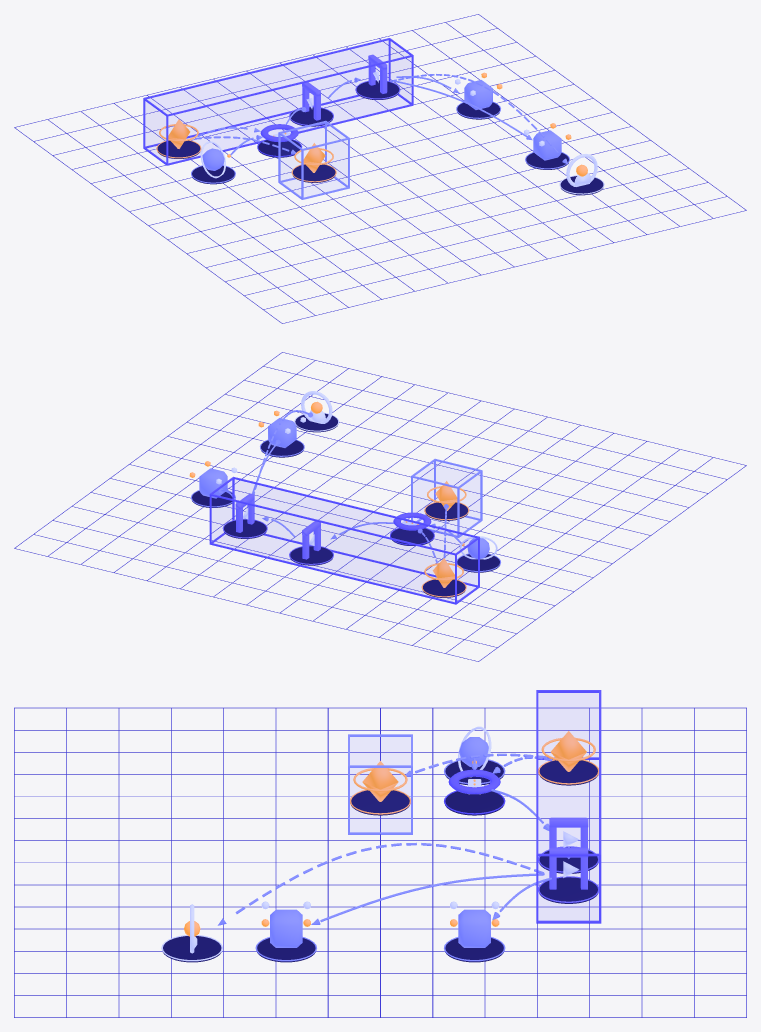
Rendered from haproxy.glb.
3 views of the same model, one above another, from view 1: azimuth 30°, elevation 25°; view 2: azimuth 150°, elevation 25°; view 3: azimuth 270°, elevation 25° (orthographic). The views are drawn at different scales.
Parts seen in each view (by area): view 1: floor, group_Active_node, group_Standby_node, mesh_srv_b_core, mesh_srv_a_core, mesh_ka_master_pad, mesh_ka_backup_pad, mesh_hap_be_pad, mesh_clients_pad, mesh_vip_pad; view 2: floor, group_Active_node, group_Standby_node, mesh_srv_b_core, mesh_srv_a_core, mesh_hap_fe_pad, mesh_hap_be_pad, mesh_ka_master_pad, mesh_ka_backup_pad, mesh_vip_pad, mesh_clients_pad; view 3: floor, group_Active_node, mesh_srv_a_core, mesh_srv_b_core, mesh_stats_pad, mesh_vip_pad, mesh_hap_be_pad, mesh_ka_backup_pad, mesh_ka_master_pad, group_Standby_node, mesh_srv_a_pad, mesh_srv_b_pad (+7 smaller).
Part boxes in pixels (x1=…): floor: x1=14, y1=14, x2=746, y2=323; group_Active_node: x1=143, y1=38, x2=413, y2=165; group_Standby_node: x1=278, y1=120, x2=349, y2=199; mesh_srv_b_core: x1=533, y1=130, x2=561, y2=160; mesh_srv_a_core: x1=464, y1=80, x2=492, y2=109; mesh_ka_master_pad: x1=157, y1=140, x2=200, y2=158; mesh_ka_backup_pad: x1=293, y1=164, x2=335, y2=182; mesh_hap_be_pad: x1=356, y1=80, x2=399, y2=99; mesh_clients_pad: x1=192, y1=166, x2=234, y2=184; mesh_vip_pad: x1=258, y1=140, x2=300, y2=157; floor: x1=14, y1=352, x2=746, y2=661; group_Active_node: x1=209, y1=476, x2=479, y2=604; group_Standby_node: x1=411, y1=458, x2=482, y2=537; mesh_srv_b_core: x1=268, y1=418, x2=296, y2=447; mesh_srv_a_core: x1=199, y1=468, x2=227, y2=498; mesh_hap_fe_pad: x1=290, y1=546, x2=332, y2=565; mesh_hap_be_pad: x1=224, y1=519, x2=266, y2=538; mesh_ka_master_pad: x1=423, y1=579, x2=465, y2=597; mesh_ka_backup_pad: x1=425, y1=502, x2=467, y2=520; mesh_vip_pad: x1=391, y1=528, x2=433, y2=545; mesh_clients_pad: x1=457, y1=554, x2=499, y2=572; floor: x1=14, y1=707, x2=746, y2=1017; group_Active_node: x1=536, y1=690, x2=601, y2=923; mesh_srv_a_core: x1=458, y1=909, x2=490, y2=947; mesh_srv_b_core: x1=270, y1=909, x2=302, y2=947; mesh_stats_pad: x1=163, y1=936, x2=221, y2=962; mesh_vip_pad: x1=445, y1=791, x2=503, y2=815; mesh_hap_be_pad: x1=539, y1=877, x2=598, y2=903; mesh_ka_backup_pad: x1=351, y1=790, x2=409, y2=815; mesh_ka_master_pad: x1=539, y1=760, x2=598, y2=785; group_Standby_node: x1=348, y1=734, x2=412, y2=834; mesh_srv_a_pad: x1=445, y1=938, x2=503, y2=962; mesh_srv_b_pad: x1=257, y1=938, x2=315, y2=962.
Size of the model in its own units: 28.03 by 3.63 by 28.03.
